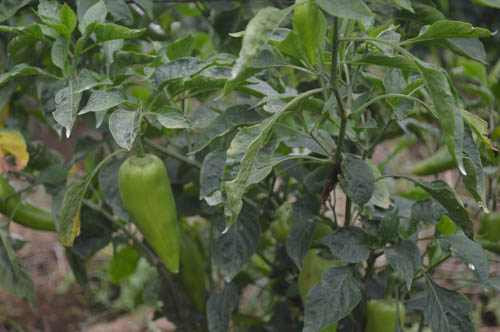ChiliPepper: (125, 158, 186, 272), (3, 189, 58, 231), (177, 241, 211, 306)
